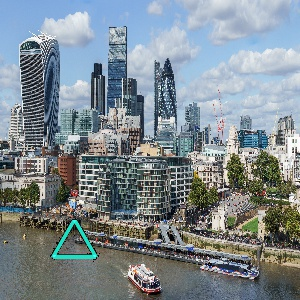triangle: (50, 215, 102, 264)
